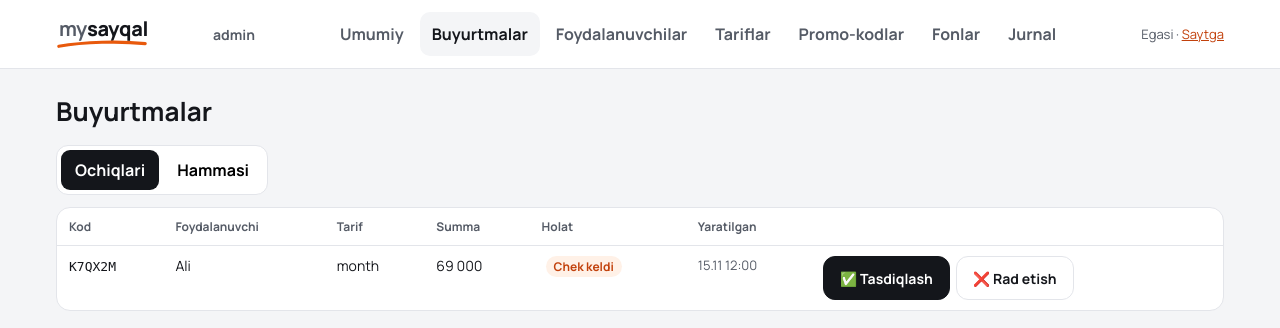
admin panel › buyurtmani tasdiqlash — tasdiq soʻraladi va roʻyxat yangilanadi
Expected: the row with test id "order-K7QX2M" shows "Chek keldi", [554,258,614,275]
Step 1. Click the button "✅ Tasdiqlash" → (886, 278), box [823,256,950,300]
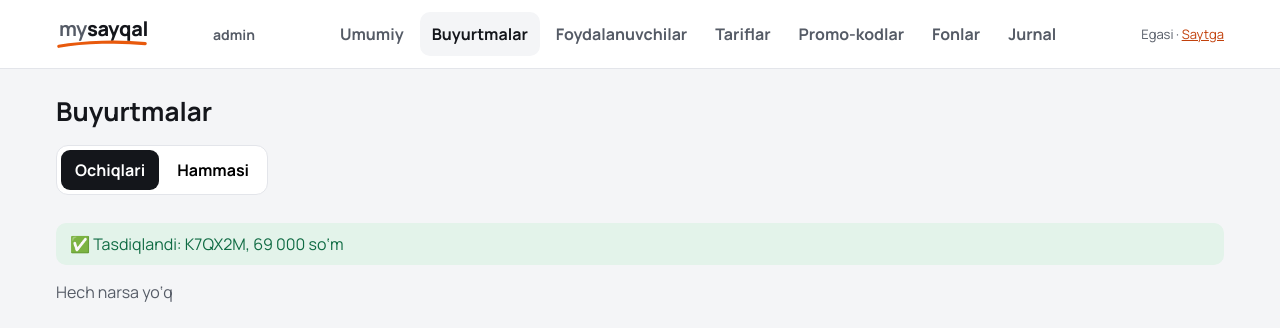
Result: the message shows "Tasdiqlandi" at [70,233,344,255]
Result: the text "Hech narsa yo‘q" is shown at [56,281,173,303]
